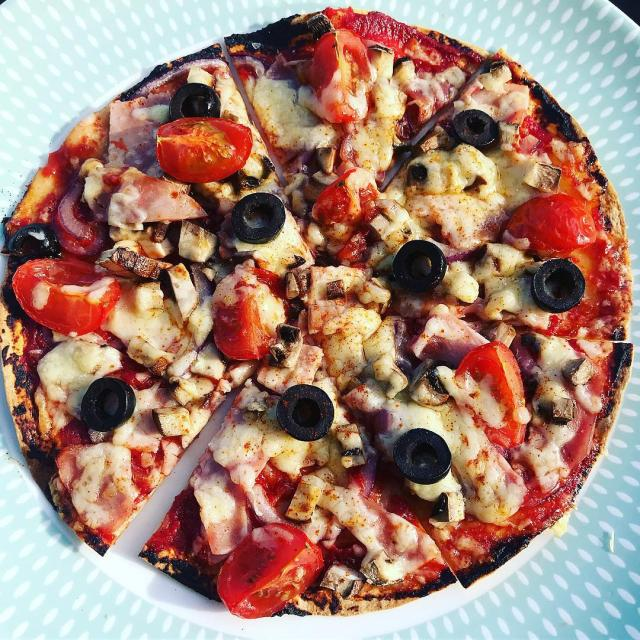black_olives: (276, 384, 337, 442), (390, 237, 448, 295), (393, 428, 452, 484), (80, 376, 138, 432), (531, 256, 586, 313), (230, 190, 286, 244), (165, 82, 223, 122), (450, 108, 502, 152), (8, 224, 62, 261)
mushrooms: (102, 248, 170, 282), (410, 358, 450, 407), (287, 474, 325, 524), (175, 222, 219, 265), (534, 382, 574, 427), (430, 488, 468, 526), (360, 558, 407, 588), (153, 406, 196, 438), (523, 161, 563, 195), (272, 326, 303, 367), (338, 426, 367, 466), (565, 356, 595, 386), (430, 368, 460, 396), (282, 275, 304, 301), (339, 576, 364, 598)
pizza: (0, 7, 632, 618)
tomatoes: (216, 521, 326, 621), (454, 339, 531, 452), (12, 260, 120, 334), (152, 116, 253, 185), (214, 267, 286, 362), (310, 28, 374, 126), (496, 194, 598, 255), (312, 168, 382, 238)
